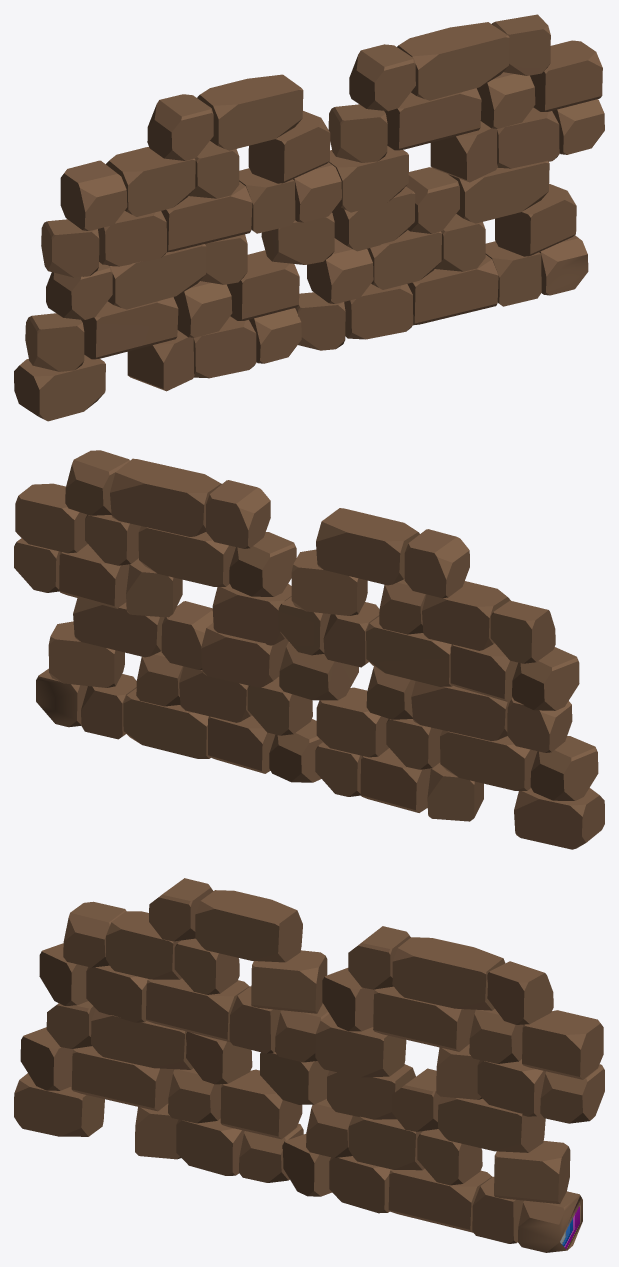
File: Mali_wallA.fbx
3 renders of one model, top to bottom at view 1: azimuth 30°, elevation 25°; view 2: azimuth 150°, elevation 25°; view 3: azimuth 330°, elevation 25°, orthographic.
Visible parts, largest first — view 1: Mali wallA; view 2: Mali wallA; view 3: Mali wallA.
Part boxes in pixels (x1,y1,x2,y2): Mali wallA: [14, 14, 604, 421]; Mali wallA: [14, 450, 604, 849]; Mali wallA: [14, 878, 604, 1252].
Size of the model in its own units: 596 by 269 by 60.85.
1 material, 1 textured.
